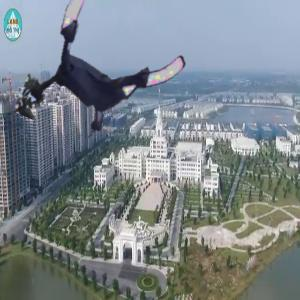drone: (35, 1, 180, 146)
